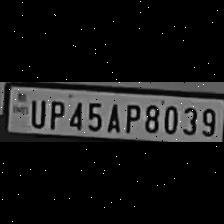0: (160, 102, 178, 134)
3: (180, 102, 198, 136)
4: (64, 98, 84, 130)
5: (83, 98, 103, 130)
8: (142, 101, 160, 135)
9: (198, 104, 218, 136)
A: (104, 100, 122, 132)
P: (120, 99, 140, 133), (45, 97, 63, 129)
U: (27, 97, 46, 128)
